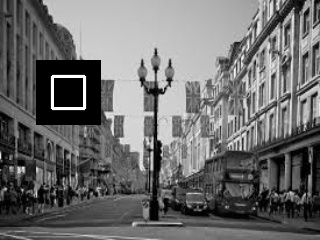square: (36, 61, 101, 125)
